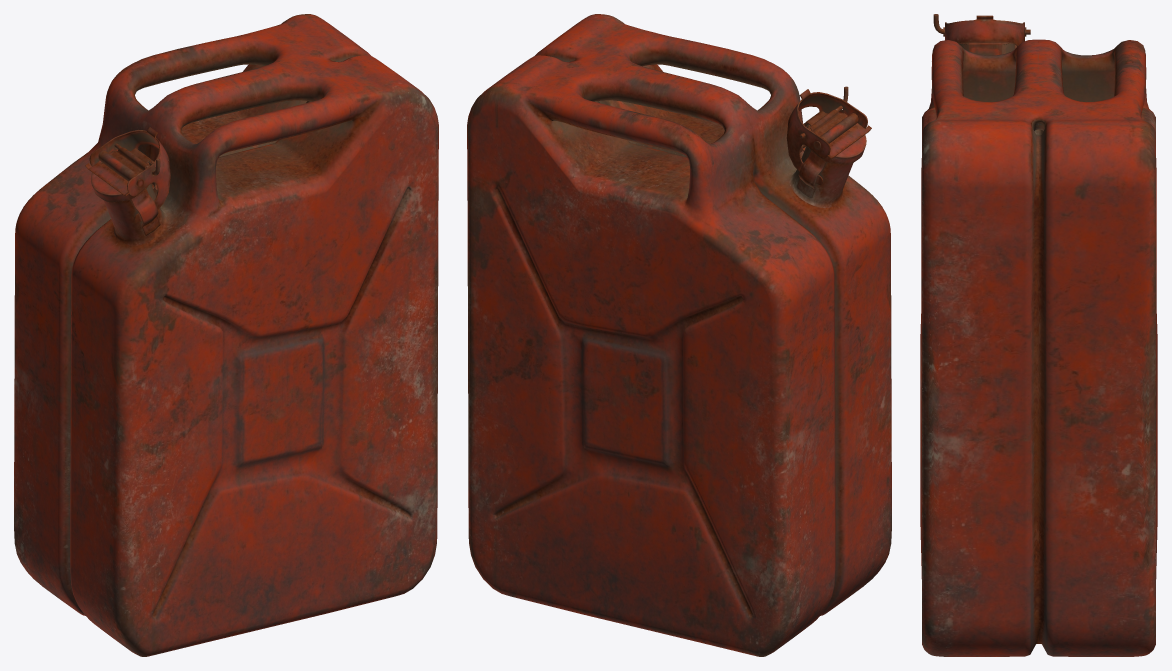
The model's file is metal_jerrycan.glb.
3 views of the same model, side by side, from view 1: azimuth 30°, elevation 25°; view 2: azimuth 150°, elevation 25°; view 3: azimuth 270°, elevation 25° (orthographic). The views are drawn at different scales.
Visible parts, largest first — view 1: metal_jerrycan; view 2: metal_jerrycan; view 3: metal_jerrycan.
Part boxes in pixels (<box>): metal_jerrycan: <box>14,14,438,656</box>; metal_jerrycan: <box>467,14,891,656</box>; metal_jerrycan: <box>920,14,1157,656</box>.
Bounding box in the file's own units: 0.28 × 0.42 × 0.17.
Materials: 1 (1 with a texture image).
